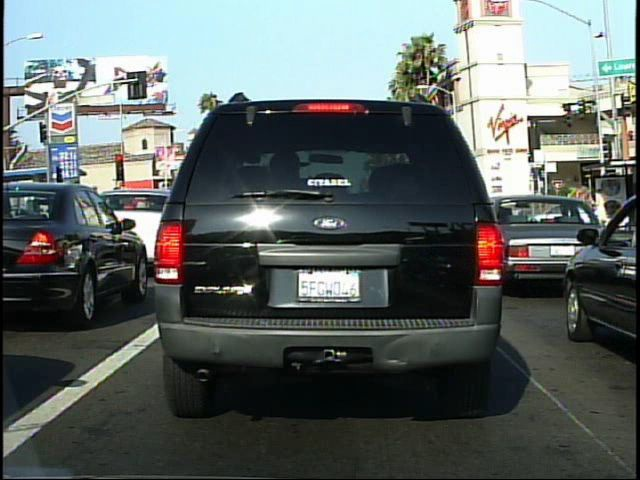person: (592, 184, 612, 241)
